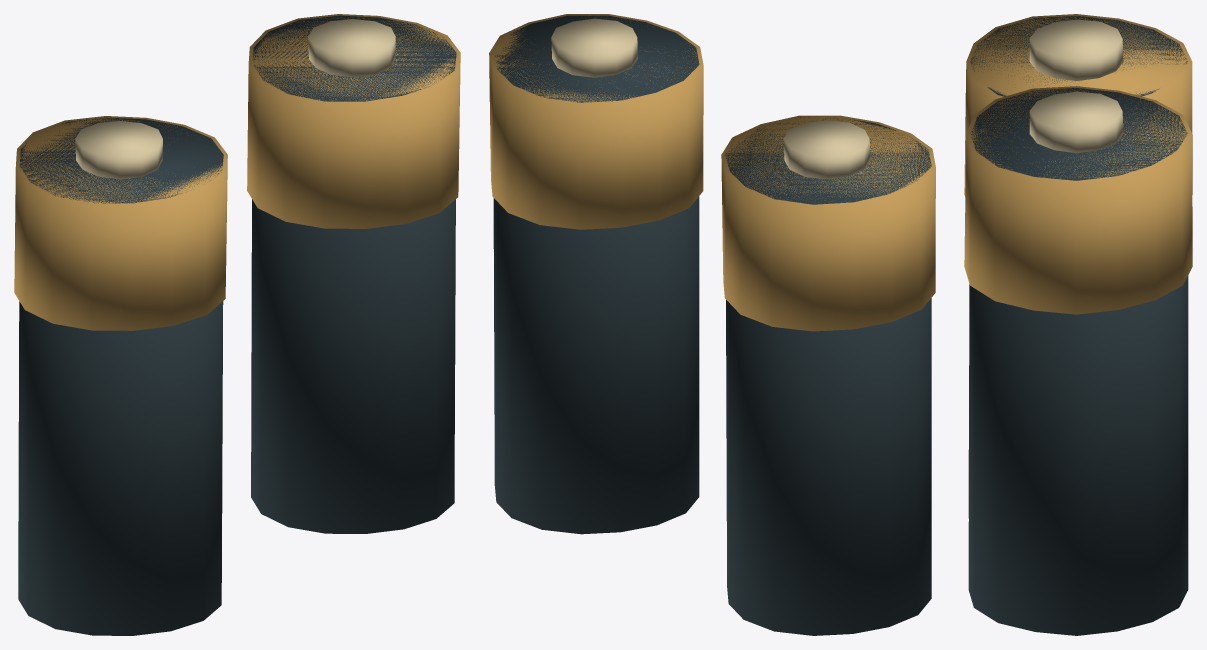
Rendered from batteries.glb.
3 renders of one model, left to right at view 1: azimuth 30°, elevation 25°; view 2: azimuth 150°, elevation 25°; view 3: azimuth 270°, elevation 25°, orthographic. The views are drawn at different scales.
Parts seen in each view (by area): view 1: Cell.001, Cell, Copper sleeve.001, Copper sleeve, Contact.001, Contact; view 2: Cell.001, Cell, Copper sleeve, Copper sleeve.001, Contact.001, Contact; view 3: Cell.001, Copper sleeve.001, Copper sleeve, Contact.001, Contact, Cell.
Boxes of the visible parts, x1,y1,x2,y2 form: Cell.001: (251,15,456,533); Cell: (18,117,223,635); Copper sleeve.001: (247,14,460,228); Copper sleeve: (14,116,227,330); Contact.001: (308,19,395,77); Contact: (75,121,162,179); Cell.001: (493,15,699,534); Cell: (725,117,931,635); Copper sleeve: (721,115,935,331); Copper sleeve.001: (489,14,703,229); Contact.001: (551,18,637,77); Contact: (783,120,870,179); Cell.001: (968,88,1188,635); Copper sleeve.001: (964,86,1192,314); Copper sleeve: (964,14,1192,196); Contact.001: (1029,91,1123,153); Contact: (1029,19,1123,80); Cell: (968,16,1188,518).
Size of the model in its own units: 0.2451 by 0.277 by 0.1088.
